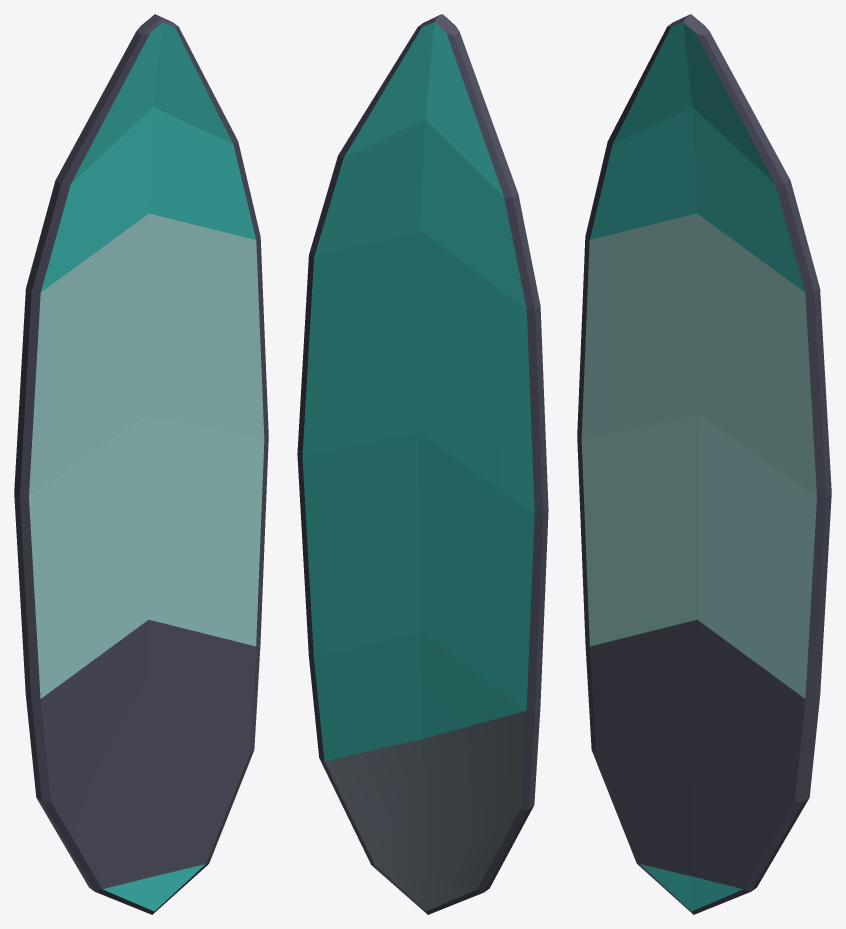
Rendered from Surf_board_01.fbx.
The picture shows the model from 3 angles, left to right: view 1: azimuth 30°, elevation 25°; view 2: azimuth 150°, elevation 25°; view 3: azimuth 330°, elevation 25°; orthographic projection.
Parts seen in each view (by area): view 1: Surf_board_01; view 2: Surf_board_01; view 3: Surf_board_01.
Part boxes in pixels (bbox=[...]): Surf_board_01: bbox=[14, 14, 268, 914]; Surf_board_01: bbox=[297, 14, 548, 914]; Surf_board_01: bbox=[577, 14, 831, 914].
Bounding box in the file's own units: 69.03 × 239 × 12.39.
